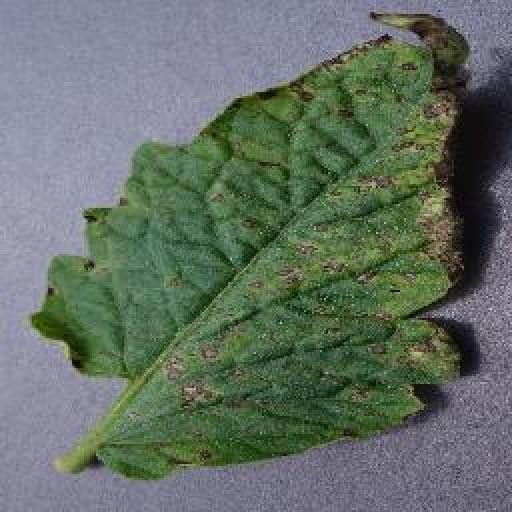Septoria: (26, 10, 464, 482)
